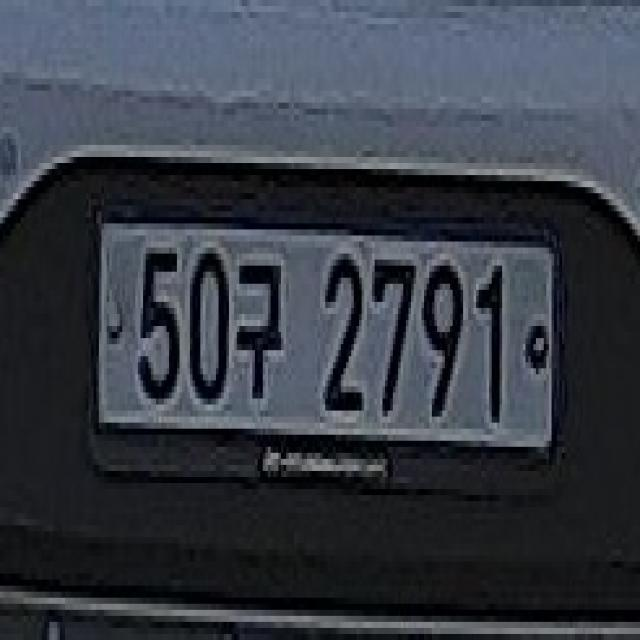0: (189, 238, 232, 418)
1: (472, 257, 512, 433)
2: (322, 252, 365, 420)
5: (128, 242, 182, 411)
7: (370, 248, 418, 426)
9: (420, 258, 466, 426)
gu: (236, 255, 286, 405)
license_plate: (84, 208, 569, 487)
